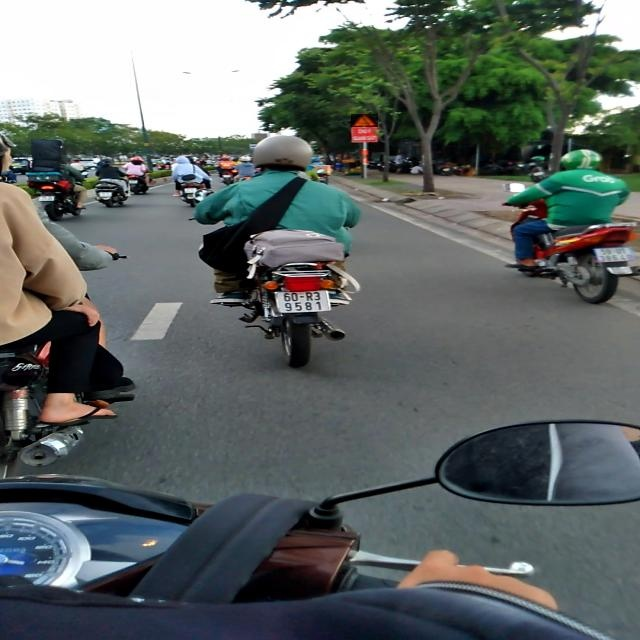bien_nguy_hiem: (351, 114, 378, 127)
